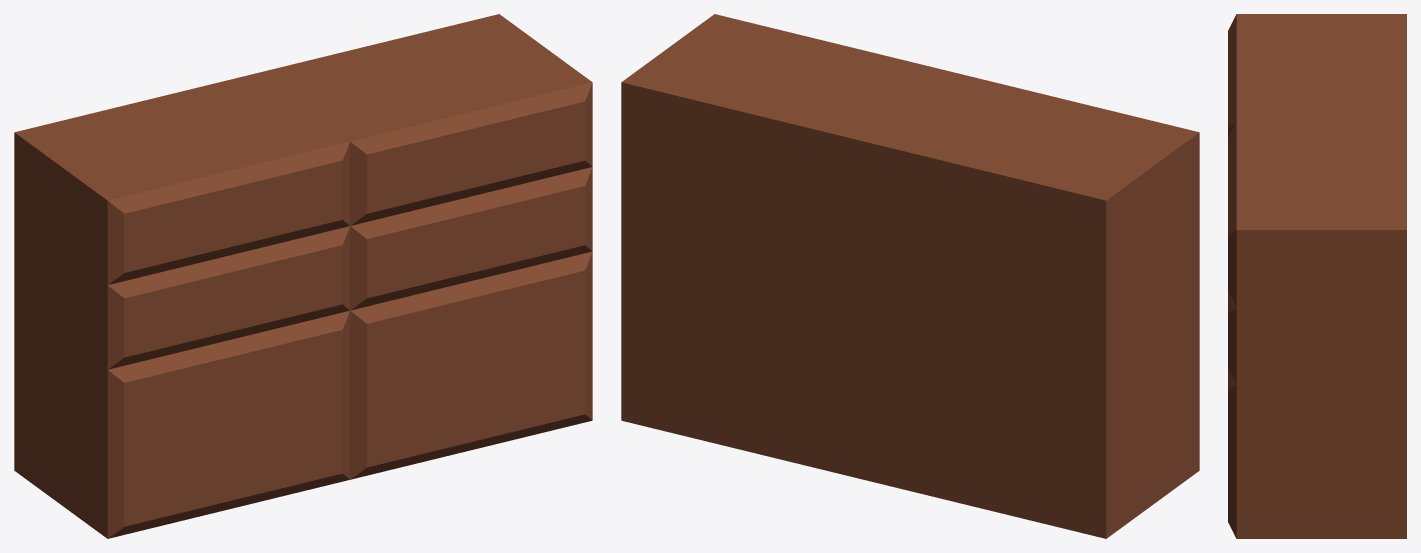
File: meuble.fbx
The picture shows the model from 3 angles, left to right: view 1: azimuth 30°, elevation 25°; view 2: azimuth 150°, elevation 25°; view 3: azimuth 270°, elevation 25°; orthographic projection. The views are drawn at different scales.
Visible parts, largest first — view 1: Cube.005; view 2: Cube.005; view 3: Cube.005.
Part boxes in pixels (box(x1,y1,x2,y2)): Cube.005: box(14, 14, 592, 538); Cube.005: box(621, 14, 1199, 538); Cube.005: box(1228, 14, 1406, 538).
Size of the model in its own units: 600 by 400 by 210.
